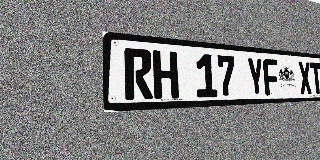1: (195, 53, 218, 98)
7: (216, 55, 237, 97)
F: (262, 59, 280, 96)
H: (152, 50, 179, 99)
R: (124, 48, 153, 100)
T: (310, 62, 320, 94)
X: (298, 61, 312, 94)
Y: (246, 57, 265, 96)
